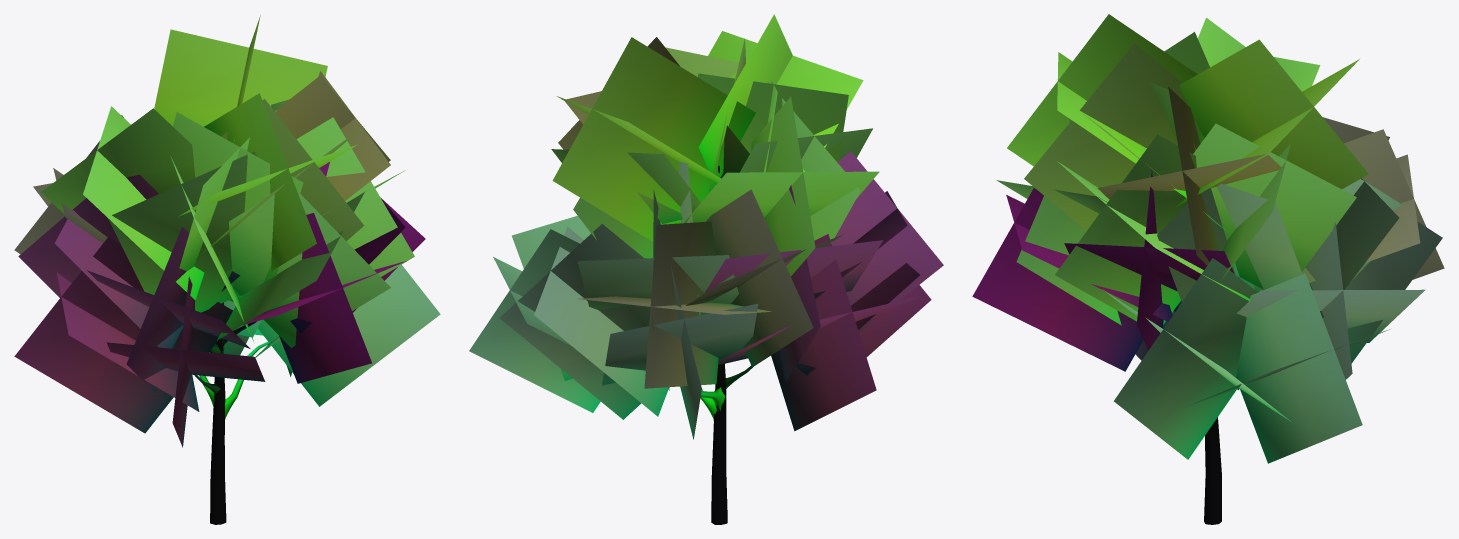
The model's file is URP_P12_Tree_13_LOD_3.fbx.
3 views of the same model, side by side, from view 1: azimuth 30°, elevation 25°; view 2: azimuth 150°, elevation 25°; view 3: azimuth 270°, elevation 25° (orthographic). The views are drawn at different scales.
Parts seen in each view (by area): view 1: Tree_13_LOD_3; view 2: Tree_13_LOD_3; view 3: Tree_13_LOD_3.
Part boxes in pixels (x1,y1,x2,y2): Tree_13_LOD_3: (14,15,440,524); Tree_13_LOD_3: (469,14,943,524); Tree_13_LOD_3: (972,14,1444,524).
Bounding box in the file's own units: 182 × 219 × 182.
